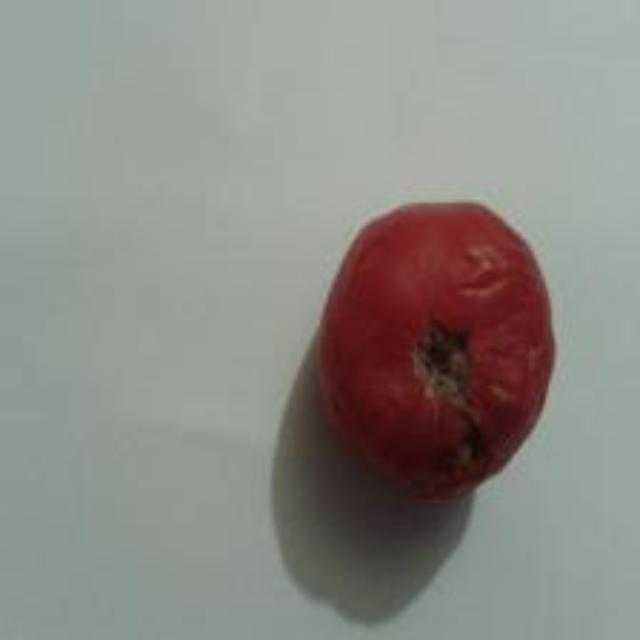defect: (315, 196, 562, 504)
